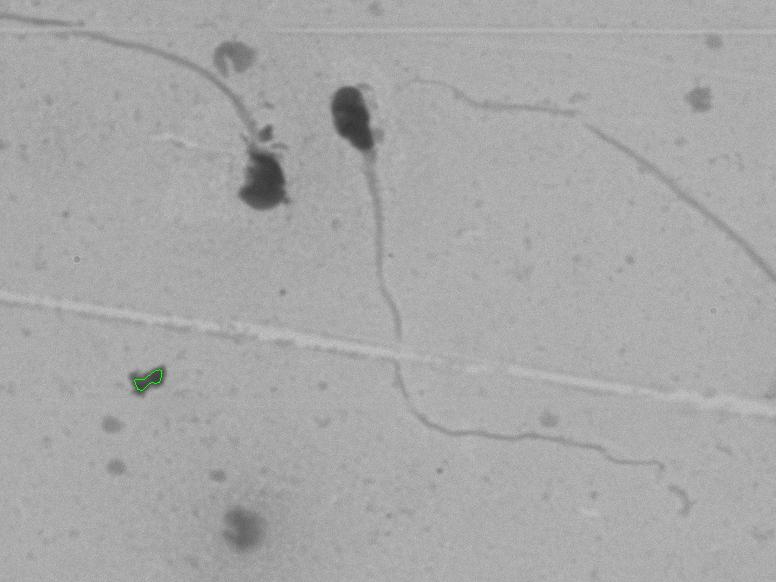Abnormal: (320, 63, 671, 513), (24, 9, 296, 280)
